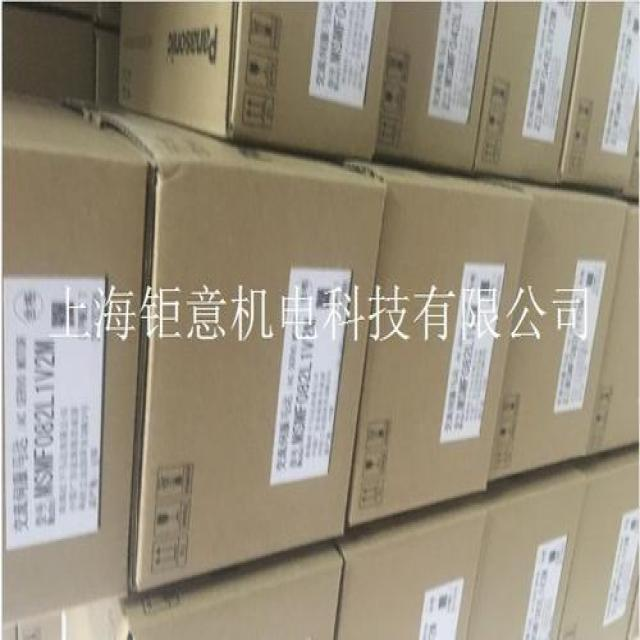box: (120, 113, 384, 575), (0, 94, 149, 591), (341, 154, 523, 522), (116, 0, 385, 164), (484, 183, 628, 482), (473, 0, 586, 192), (465, 471, 580, 640), (333, 504, 475, 640), (377, 0, 479, 174), (562, 0, 640, 194)
